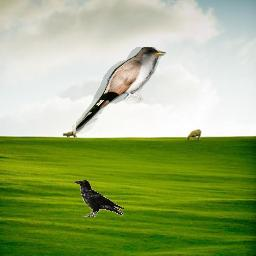Crow: (74, 180, 124, 217)
Cuckoo: (72, 47, 166, 134)
